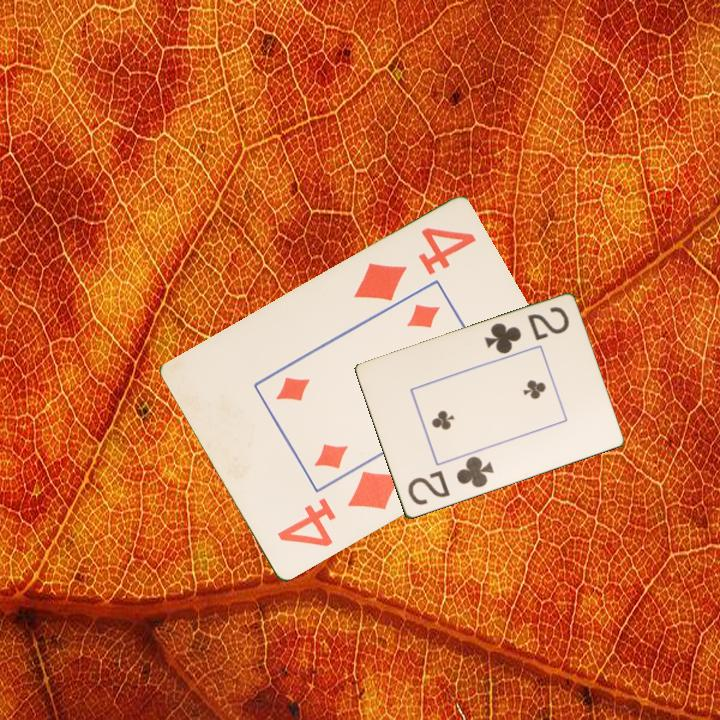2c: (404, 453, 496, 508), (481, 303, 572, 357)
4d: (273, 468, 404, 551), (350, 224, 479, 305)
